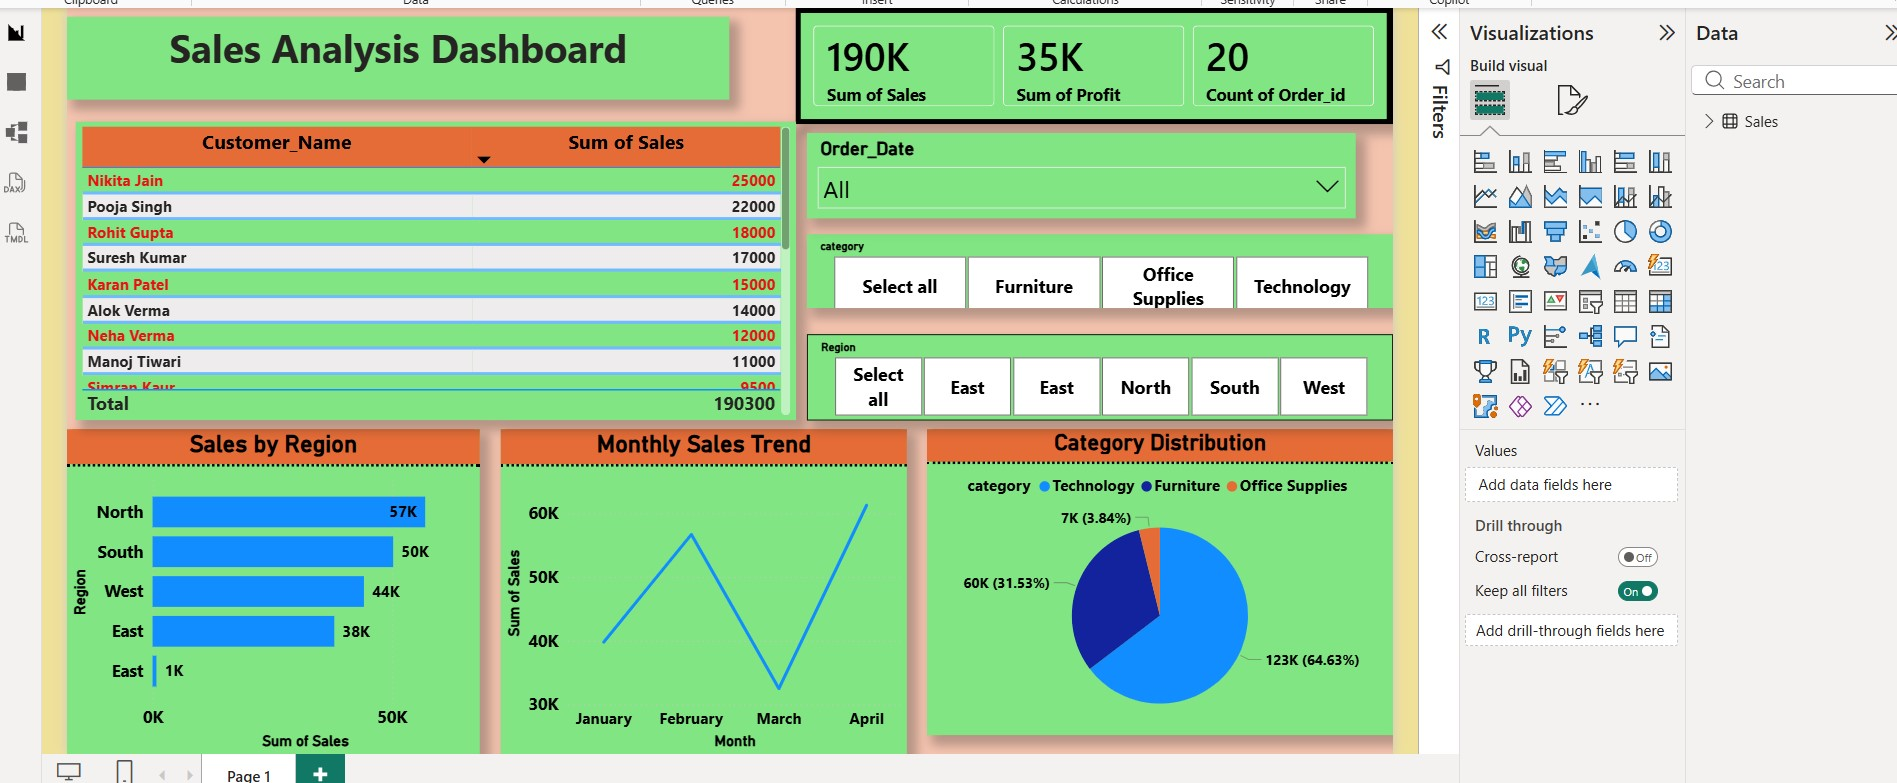

This screenshot's page, from the dashboard's own definition file:
{"tool":"powerbi","page":{"name":"Page 1","canvas":[1280,720],"ordinal":0},"visuals":[{"type":"cardVisual","fields":{"Data":["Sum(Sales.Sales)","Sum(Sales.Profit)","Count(Sales.Order_id)"]},"box":[703.4,0,576.7,112.2],"z":0},{"type":"barChart","title":" Sales by Region","fields":{"Y":["Sum(Sales.Sales)"],"Category":["Sales.Region"]},"box":[0,406.6,398.1,313.7],"z":1000},{"type":"lineChart","title":" Monthly Sales Trend","fields":{"Category":["Sales.Order_Date.Variation.Date Hierarchy.Month"],"Y":["Sum(Sales.Sales)"]},"box":[418.6,406.6,392.1,313.7],"z":2000},{"type":"pieChart","title":" Category Distribution","fields":{"Category":["Sales.category"],"Y":["Sum(Sales.Sales)"]},"box":[830,406.6,450,295.6],"z":3000},{"type":"tableEx","fields":{"Values":["Sales.Customer_Name","Sum(Sales.Sales)"]},"box":[8.4,109.8,694.9,288.3],"z":4000},{"type":"textbox","box":[0,8.4,639.4,79.6],"z":5000},{"type":"slicer","fields":{"Values":["Sales.Region"]},"box":[714.2,314.9,565.8,83.2],"z":6000},{"type":"slicer","fields":{"Values":["Sales.category"]},"box":[714.2,218.4,565.8,71.2],"z":7000},{"type":"slicer","fields":{"Values":["Sales.Order_Date"]},"box":[714.2,120.6,529.6,82],"z":8000}]}

Visuals, with their boxes in screenshot pixels (x1, y1, x2, y2):
cardVisual - Sum(Sales.Sales) x Sum(Sales.Profit): 790, 0, 1384, 116
" Sales by Region" barChart: 64, 419, 475, 743
" Monthly Sales Trend" lineChart: 496, 419, 900, 743
" Category Distribution" pieChart: 920, 419, 1384, 724
tableEx - Sales.Customer_Name x Sum(Sales.Sales): 73, 113, 789, 411
textbox: 64, 9, 724, 91
slicer - Sales.Region: 801, 325, 1384, 411
slicer - Sales.category: 801, 225, 1384, 299
slicer - Sales.Order_Date: 801, 124, 1347, 209
